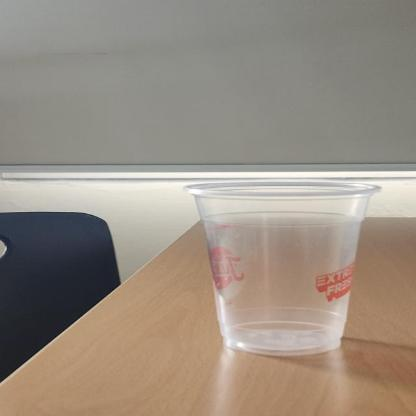Plastic Cup: (182, 181, 386, 354)
